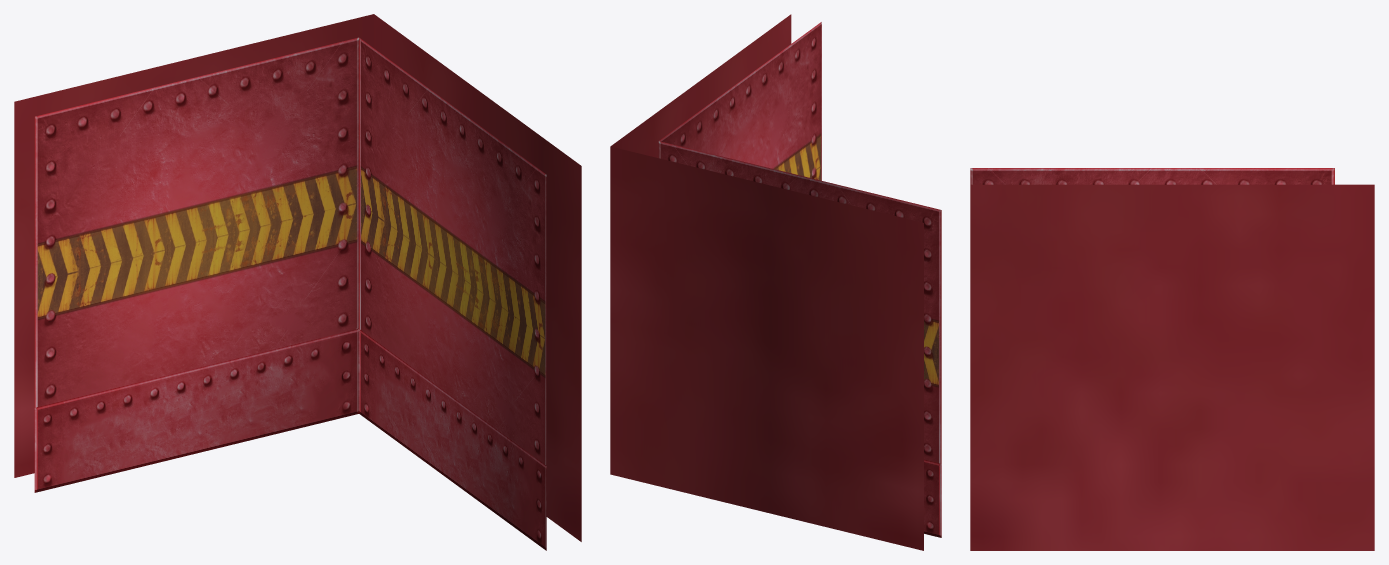
File: Corner0.fbx
The picture shows the model from 3 angles, left to right: view 1: azimuth 30°, elevation 25°; view 2: azimuth 150°, elevation 25°; view 3: azimuth 270°, elevation 25°; orthographic projection. The views are drawn at different scales.
Parts seen in each view (by area): view 1: Corner0; view 2: Corner0; view 3: Corner0.
Boxes of the visible parts, x1,y1,x2,y2 form: Corner0: (14,14,581,550); Corner0: (610,14,941,550); Corner0: (970,168,1374,550).
Bounding box in the file's own units: 1024 × 1024 × 1024.
